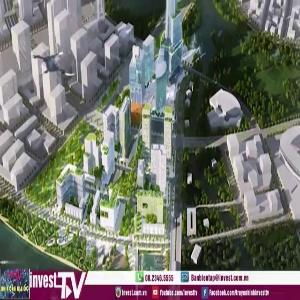drone: (36, 44, 79, 87)
